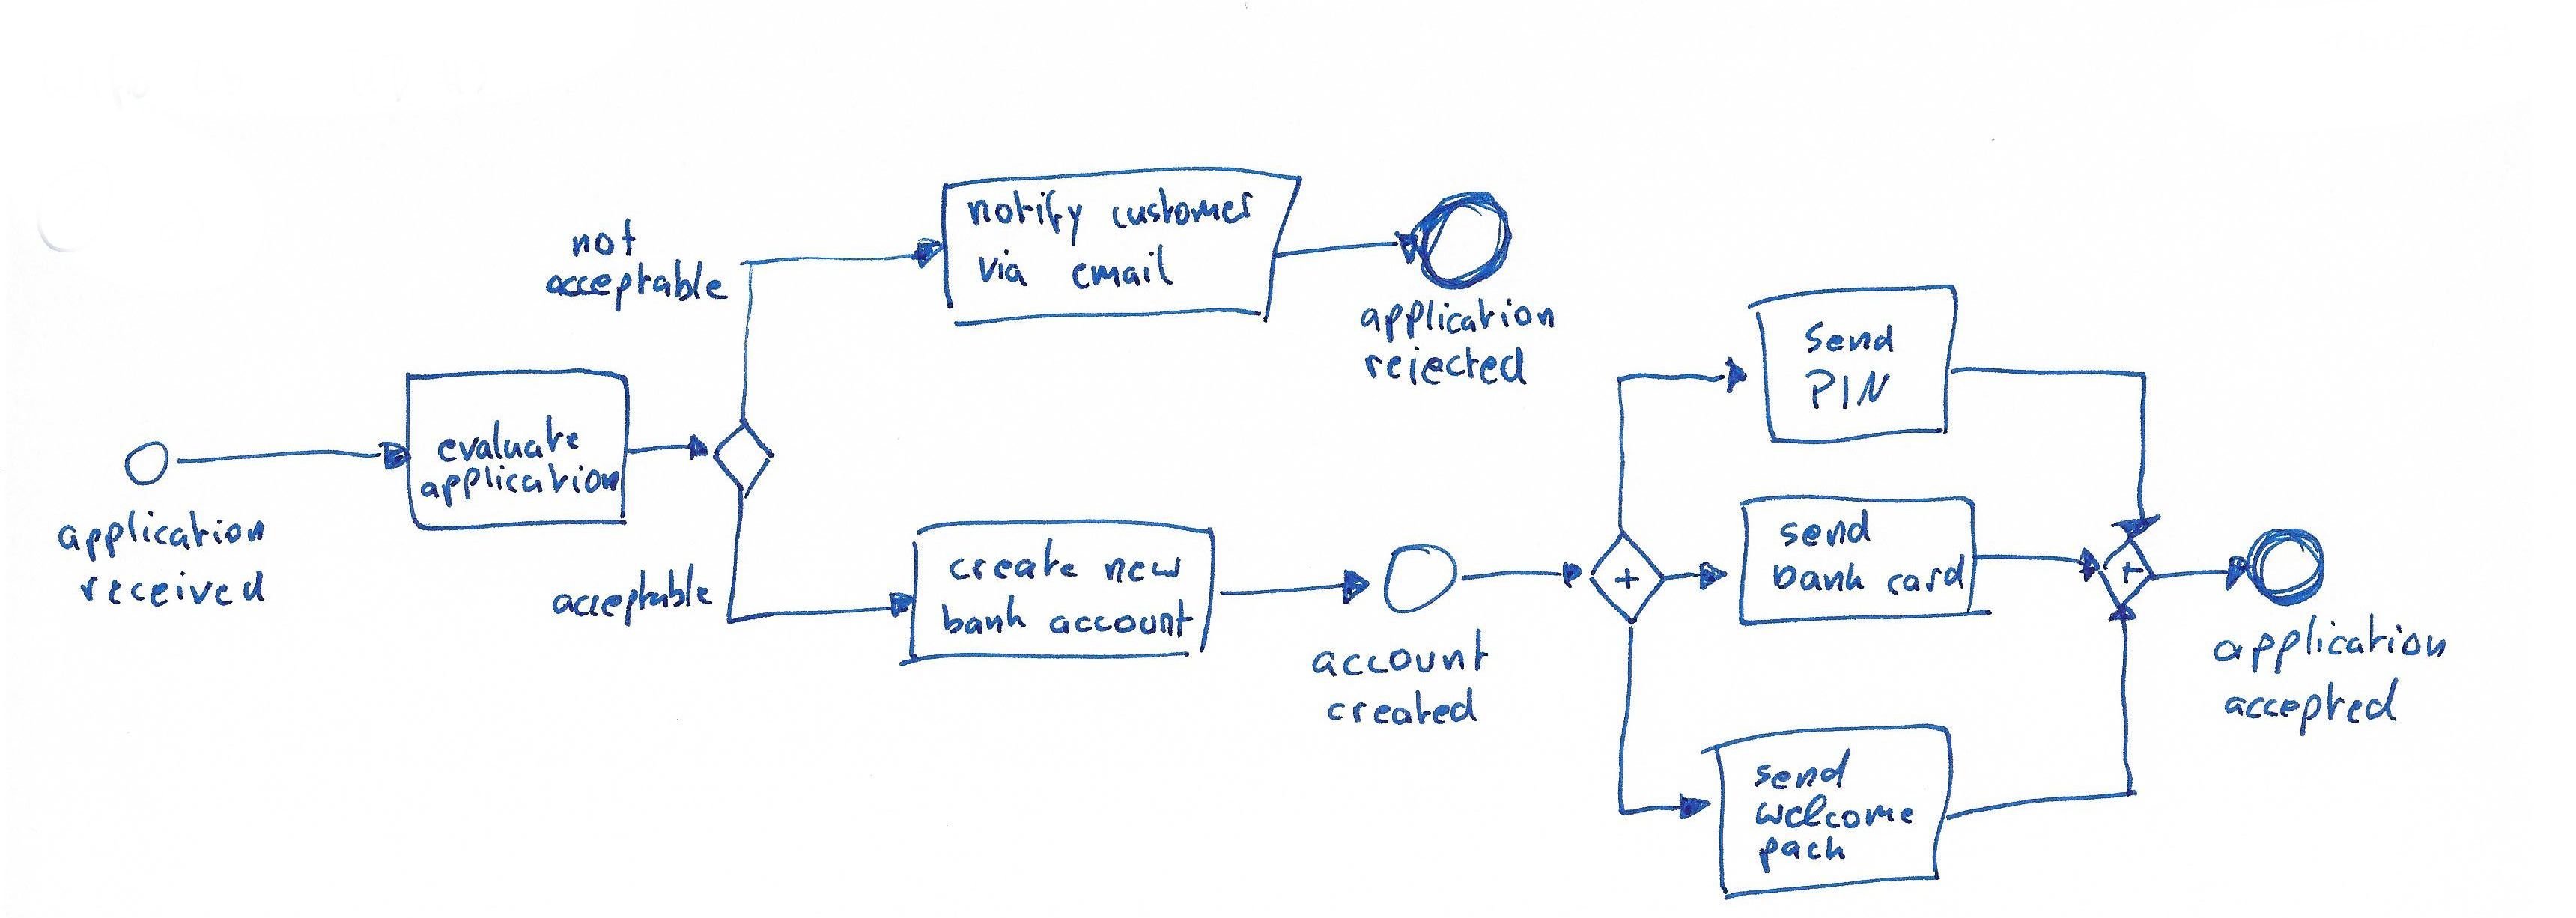PIN: (1802, 363, 1896, 415)
acceptable: (550, 565, 715, 627), (544, 258, 734, 310)
accepted: (2216, 678, 2407, 737)
account: (1311, 629, 1492, 677), (1050, 601, 1194, 642)
application: (2211, 609, 2449, 675), (57, 511, 266, 562), (416, 460, 623, 507), (1359, 297, 1557, 340)
bank: (933, 598, 1025, 636), (1773, 563, 1868, 596)
card: (1881, 553, 1970, 594)
create: (948, 539, 1078, 586)
created: (1327, 688, 1483, 729)
customer: (1107, 189, 1258, 233)
email: (1066, 256, 1173, 299)
evaluate: (435, 415, 585, 468)
new: (1102, 550, 1184, 586)
not: (568, 218, 637, 259)
notify: (966, 187, 1084, 246)
pack: (1750, 834, 1853, 870)
received: (80, 570, 268, 609)
rejected: (1362, 347, 1531, 389)
send: (1753, 747, 1853, 790), (1779, 511, 1879, 549), (1804, 320, 1897, 356)
via: (971, 248, 1040, 292)
welcome: (1750, 796, 1919, 829)
